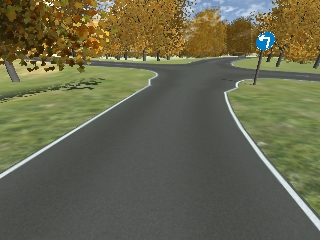left: (255, 30, 276, 50)
